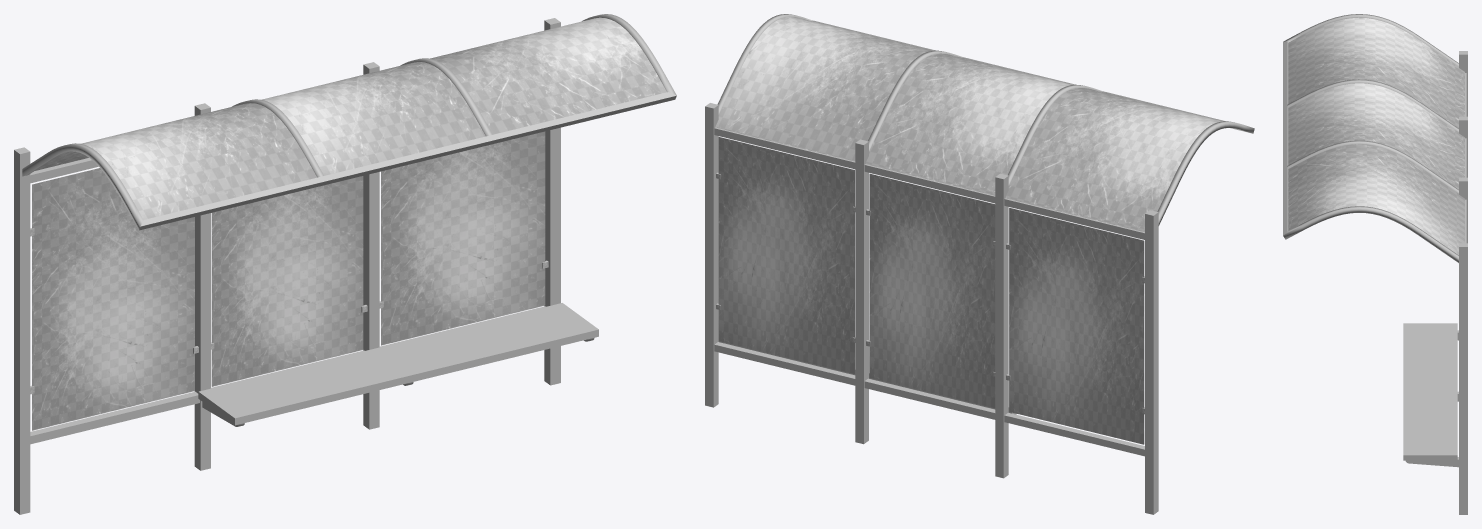
The model's file is BusStop-02.fbx.
3 views of the same model, side by side, from view 1: azimuth 30°, elevation 25°; view 2: azimuth 150°, elevation 25°; view 3: azimuth 270°, elevation 25° (orthographic). The views are drawn at different scales.
Parts seen in each view (by area): view 1: BusStop-02; view 2: BusStop-02; view 3: BusStop-02.
Part boxes in pixels (bbox=[...]): BusStop-02: bbox=[14, 14, 676, 514]; BusStop-02: bbox=[705, 14, 1254, 514]; BusStop-02: bbox=[1283, 14, 1467, 514].
Bounding box in the file's own units: 4.09 × 2.97 × 1.63.
